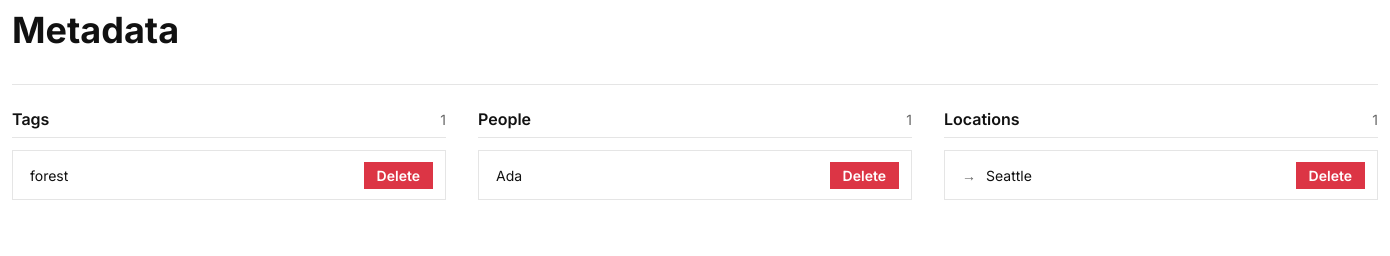
MetadataPageClient slug revalidation › does not revalidate the old slug when the rename fails
The image size is (1390, 256).
Replace the text in the field below "Locations" with "Portland" at (1134, 175), box [981,162,1288,188]
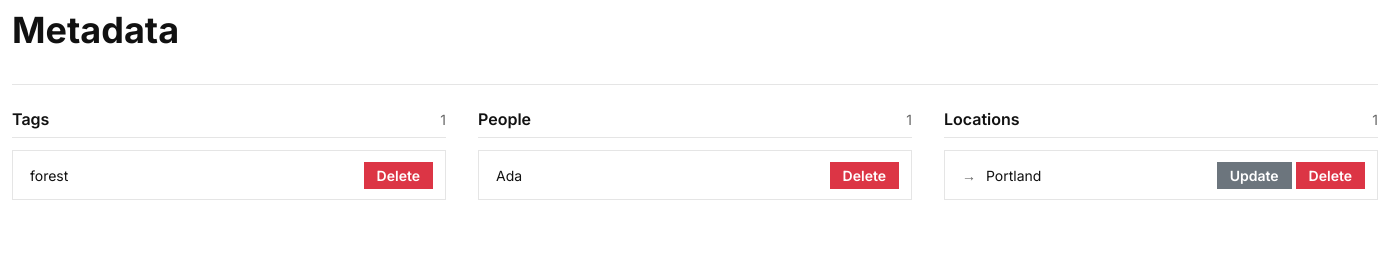
Click the button "Update" at (1254, 175), box [1217,162,1292,188]
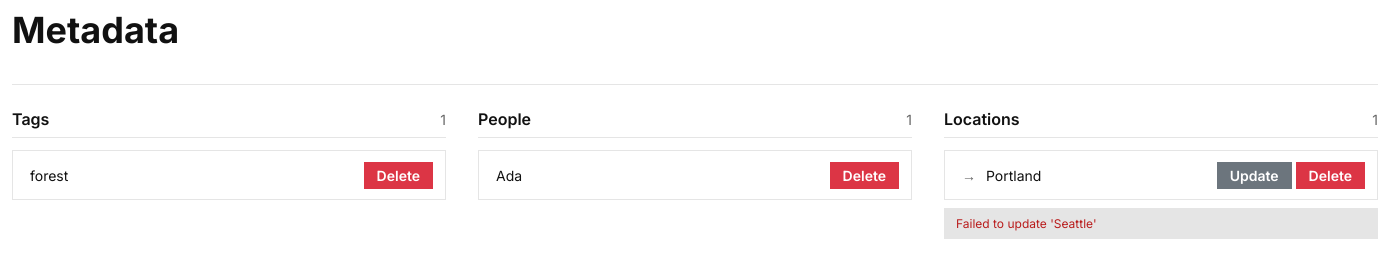
Expected: the text "Failed to update 'Seattle'" is shown, [944,208,1378,239]
